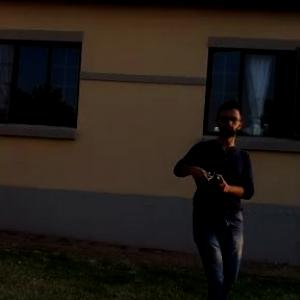follow: (170, 89, 264, 299)
